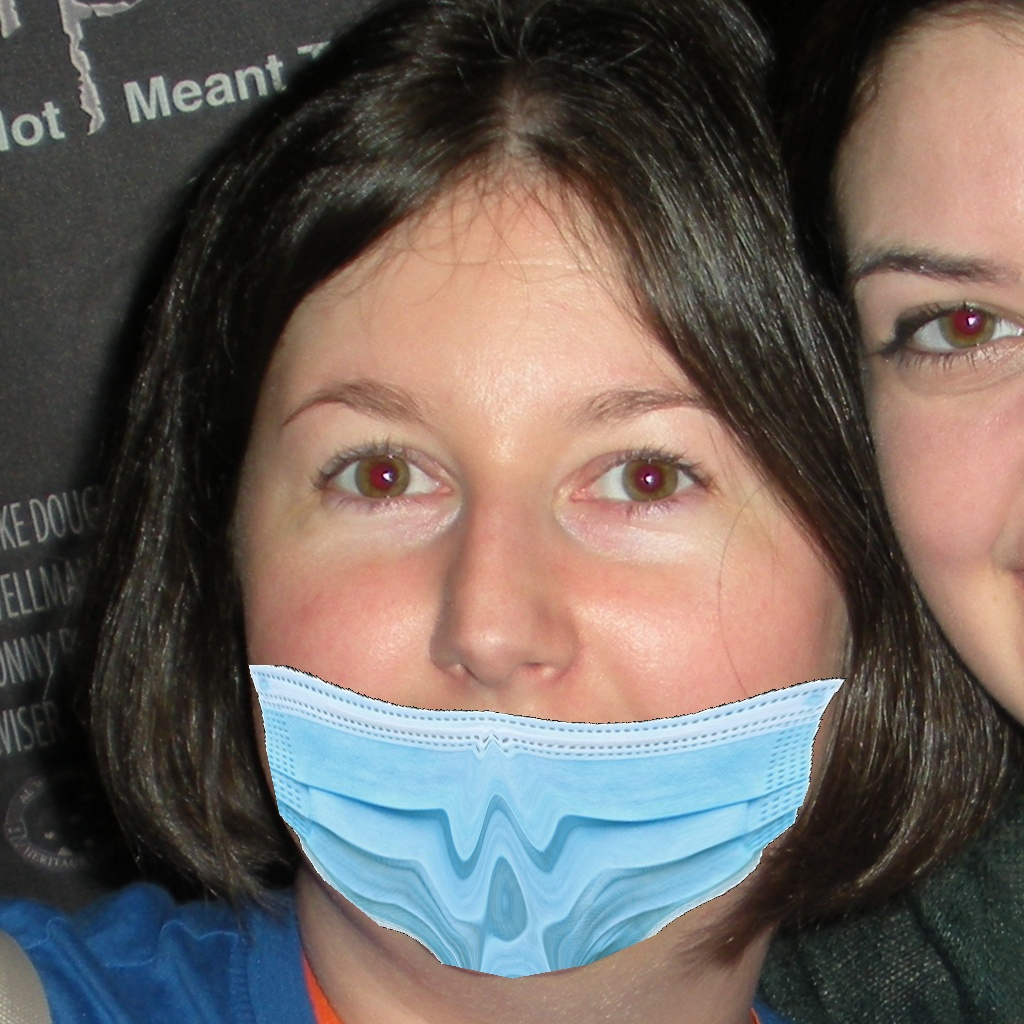mascarilla_mal_puesta: (237, 368, 852, 973)
